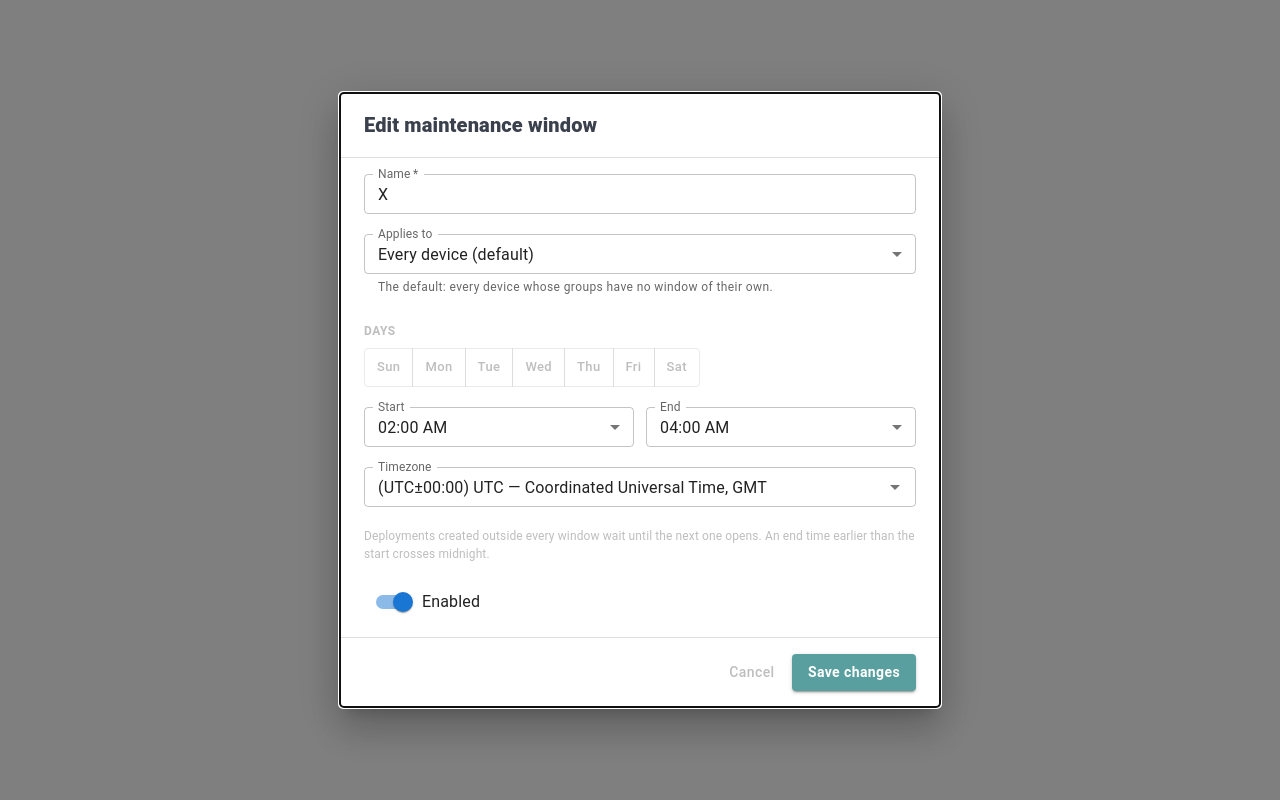
Test: MaintenanceWindowDialog › rejects when no day is selected
The image size is (1280, 800).
Click the button "Save changes": (854, 672) [792,654,916,691]
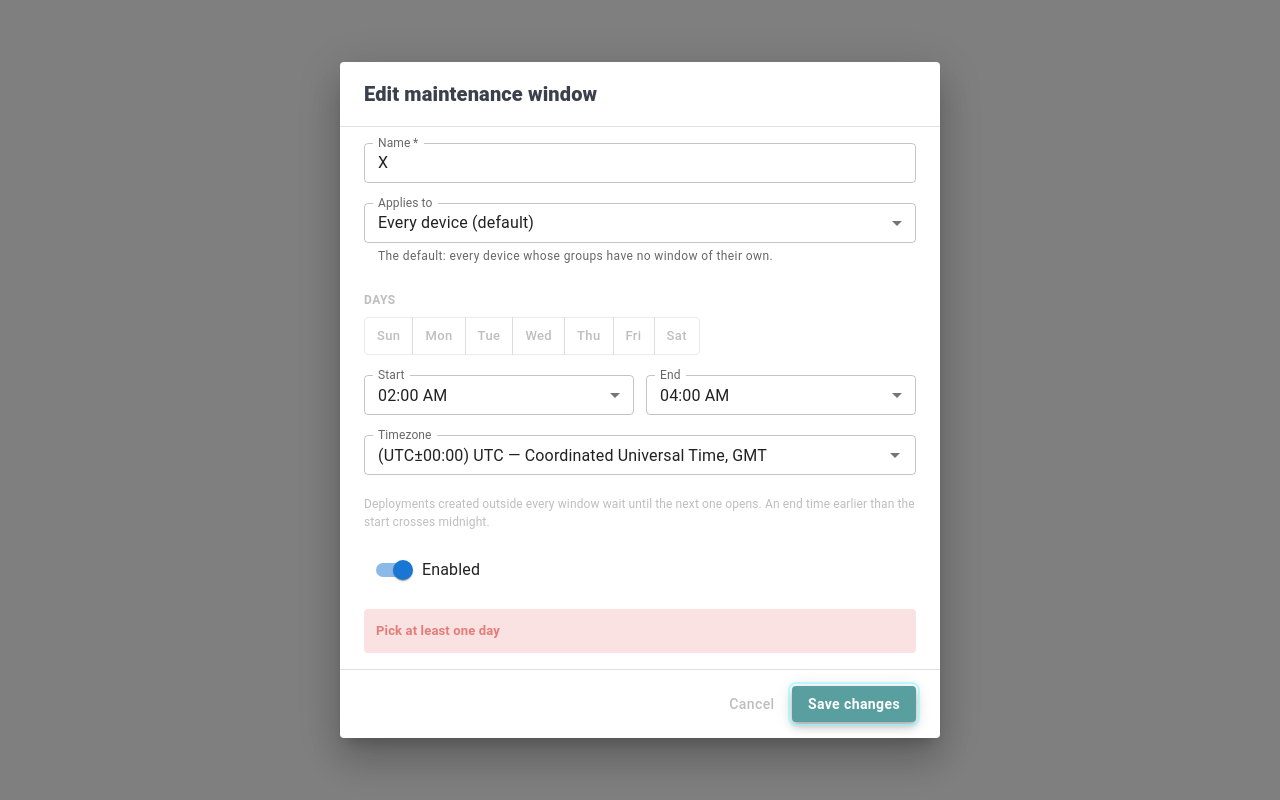
Now the text "Pick at least one day" is shown, box [364,609,916,653]
